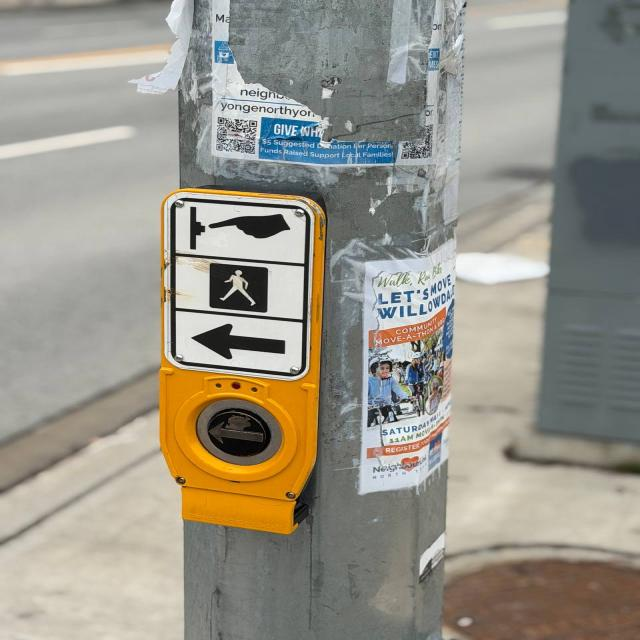Electrical Pole: (154, 2, 478, 640)
